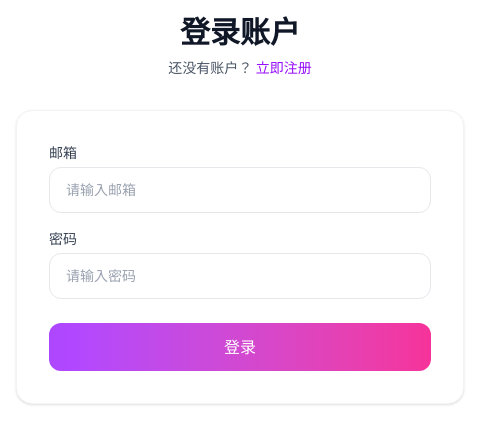
it: Login › should show loading state during login
Step 1. Type "test@test.com" into the field labelled "邮箱" → (240, 190), box [49,167,431,213]
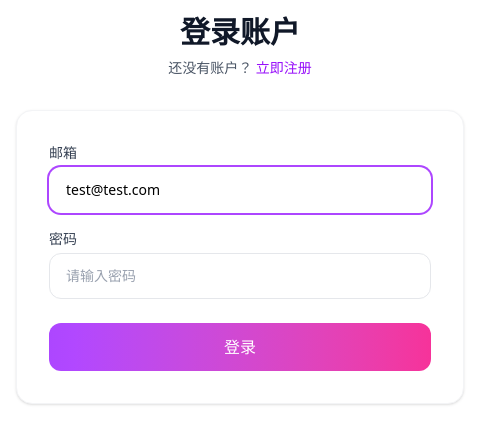
Step 2. Type "123456" into the password field labelled "密码" → (240, 276), box [49,253,431,299]
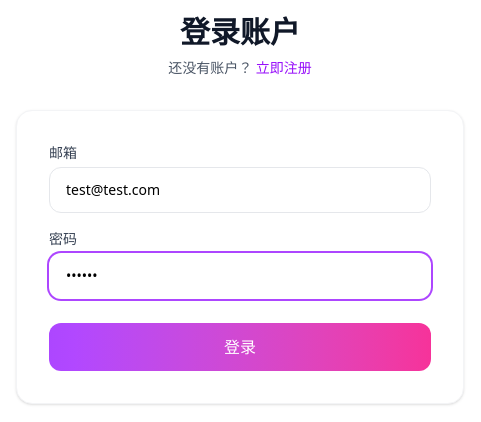
Step 3. Click the button "登录" → (240, 347), box [49,323,431,371]
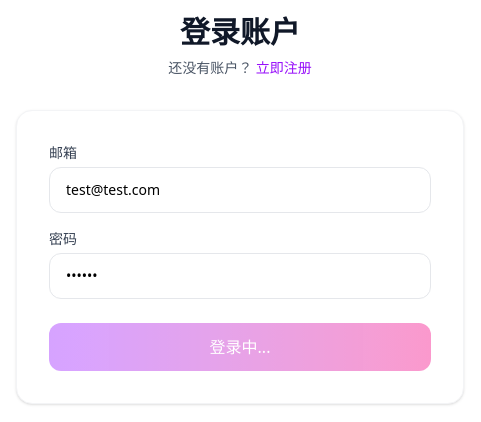
Now the button "登录中..." is disabled, box [49,323,431,371]
